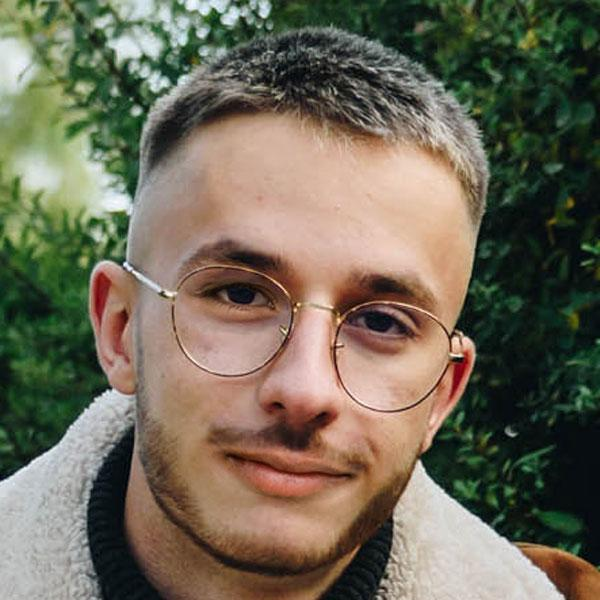Eyes: (192, 264, 279, 325), (338, 291, 423, 352)
